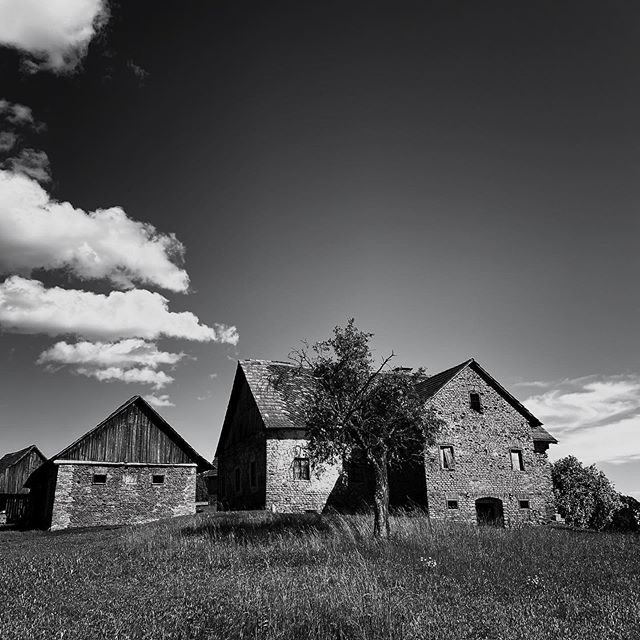building: (226, 364, 561, 538), (35, 394, 211, 533)
grass: (30, 531, 640, 640)
sky: (1, 1, 640, 409)
tree: (275, 330, 446, 564)
